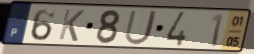1: (210, 13, 226, 49)
4: (164, 10, 189, 48)
6: (30, 7, 57, 42)
8: (94, 9, 123, 46)
K: (57, 8, 87, 43)
U: (123, 9, 160, 47)
